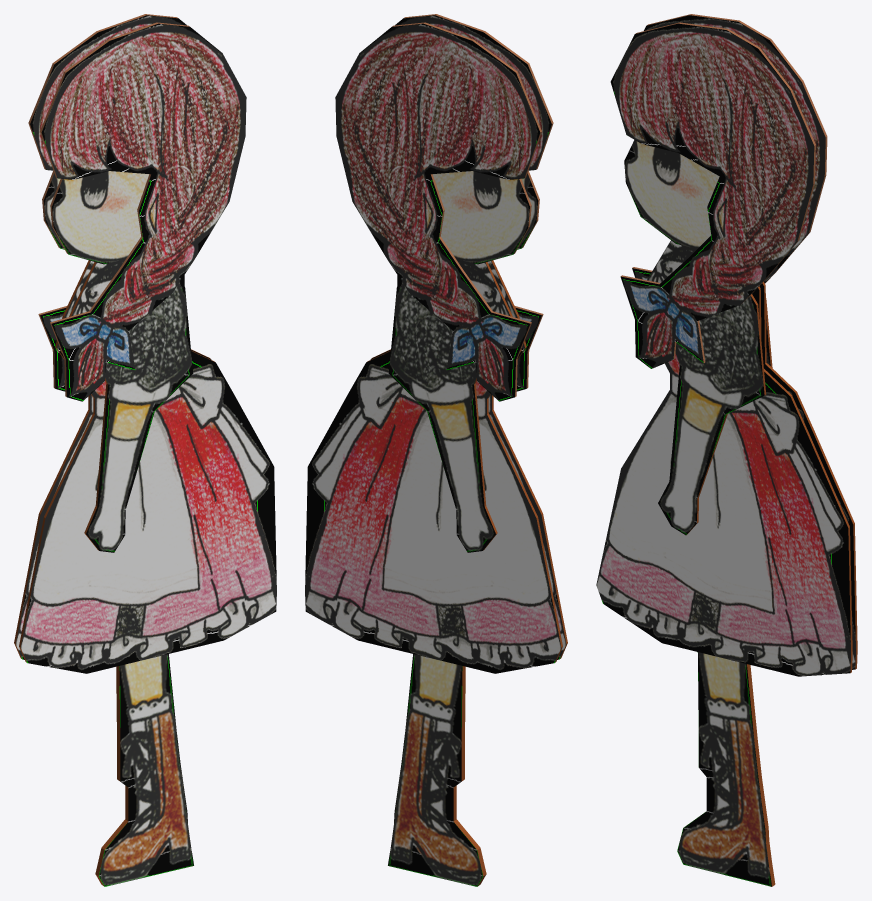
Rendered from C_Gure-teru_02.FBX.
The picture shows the model from 3 angles, left to right: view 1: azimuth 30°, elevation 25°; view 2: azimuth 150°, elevation 25°; view 3: azimuth 330°, elevation 25°; orthographic projection.
Parts seen in each view (by area): view 1: Body, Hair001, Leg001, Arm001, Face001, Hair, Face; view 2: Body, Hair, Leg, Arm, Face, Hair001, Face001; view 3: Body, Hair001, Leg001, Arm001, Face001, Hair, Leg.
Part boxes in pixels (x1,y1,x2,y2): Body: [14, 259, 276, 673]; Hair001: [40, 22, 246, 401]; Leg001: [97, 654, 193, 886]; Arm001: [84, 281, 193, 552]; Face001: [50, 171, 149, 264]; Hair: [28, 14, 186, 391]; Face: [42, 171, 64, 249]; Body: [305, 259, 567, 673]; Hair: [335, 22, 541, 401]; Leg: [388, 654, 484, 886]; Arm: [388, 281, 497, 552]; Face: [432, 171, 531, 264]; Hair001: [395, 14, 553, 391]; Face001: [517, 171, 539, 249]; Body: [596, 240, 857, 676]; Hair001: [610, 22, 815, 368]; Leg001: [677, 652, 773, 886]; Arm001: [658, 294, 766, 535]; Face001: [624, 140, 719, 248]; Hair: [632, 14, 827, 283]; Leg: [748, 664, 775, 885].
Bounding box in the file's own units: 42.42 × 135 × 3.78.
